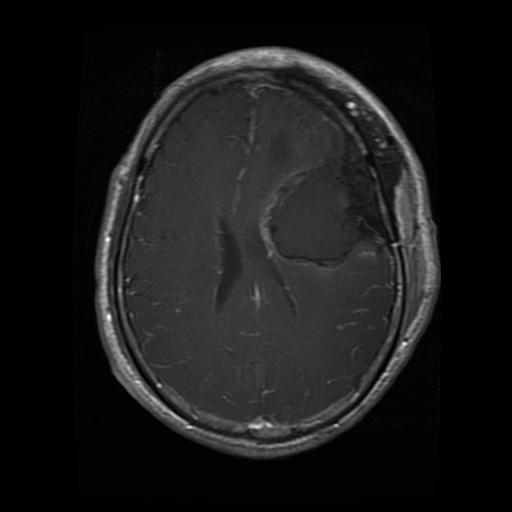Gliomia_tumour: (260, 140, 384, 268)
